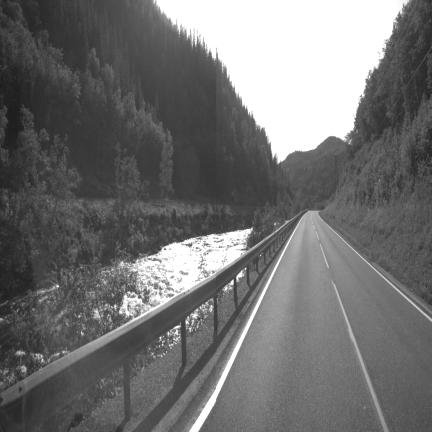Road: (201, 212, 431, 430)
